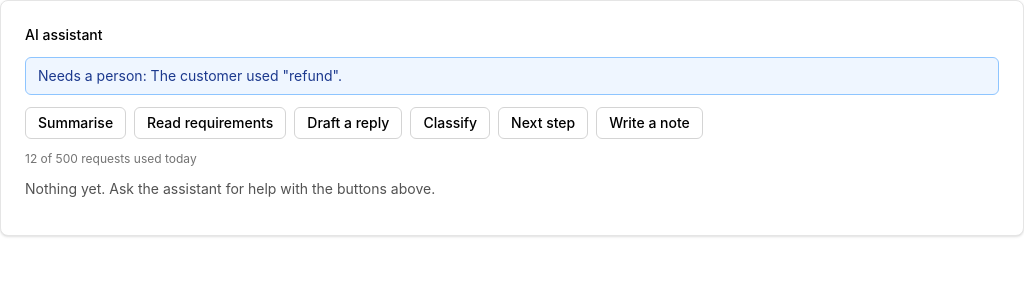
AiPanel › asks for a function and reports a limit or a failure in words
Expected: the text "Needs a person: The customer used \"refund\"." is shown, [25,57,999,95]
Expected: the text "12 of 500 requests used today" is shown, [25,151,197,166]
Click the button "Read requirements" at (210, 123), box [134,107,286,139]
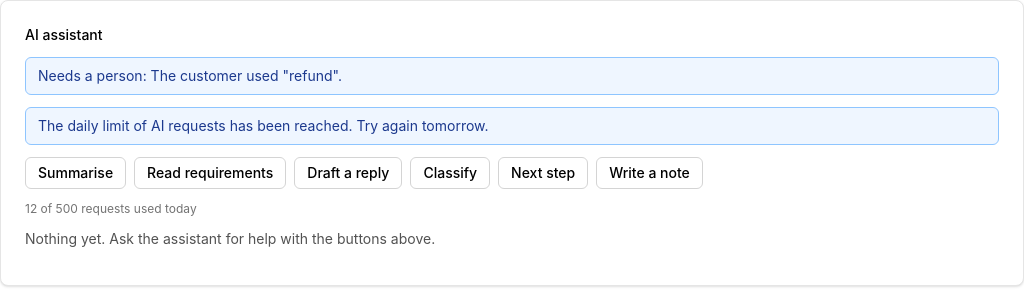
Expected: the text "The daily limit of AI requests has been reached. Try again tomorrow." is shown, [25,107,999,145]
Click the button "Read requirements" at (210, 173), box [134,157,286,189]
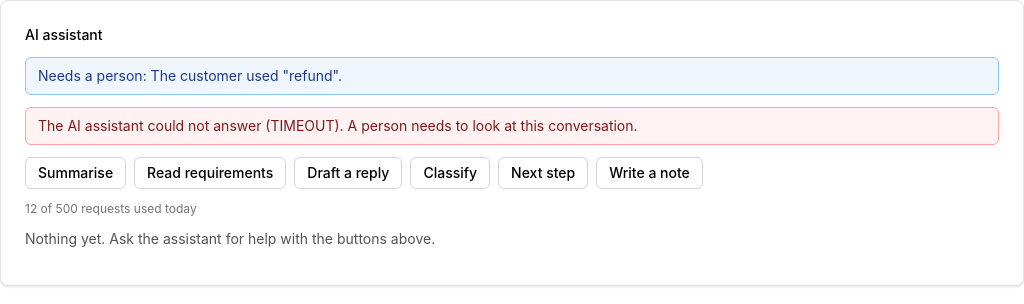
Expected: the 2nd message shows "could not answer (TIMEOUT)", [38,117,638,134]
